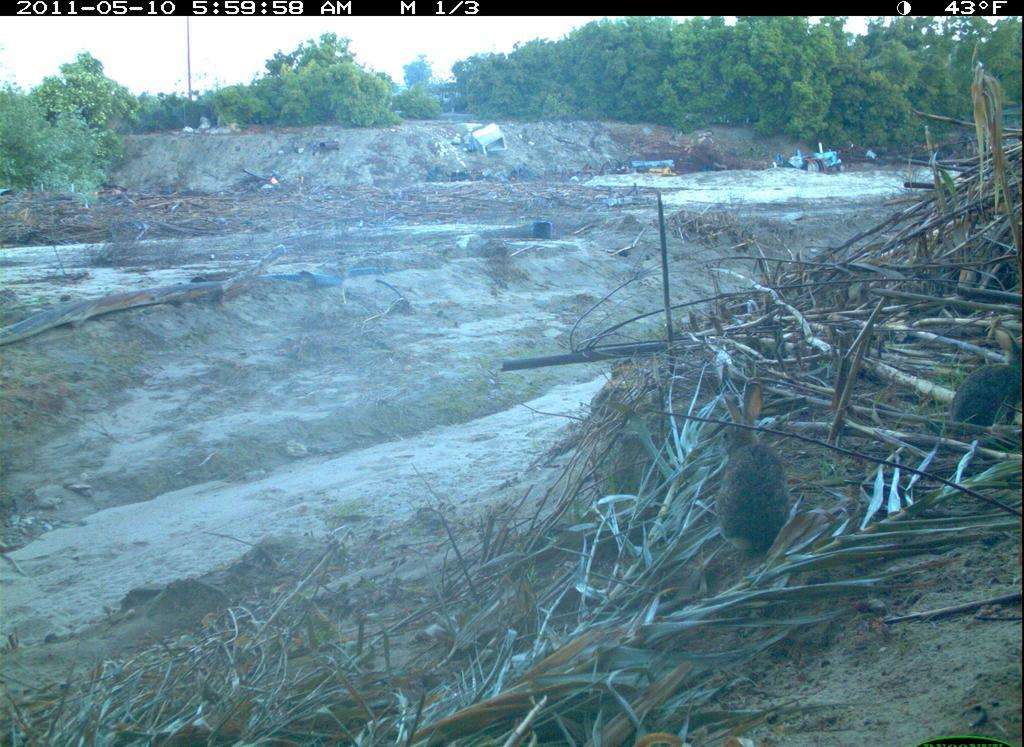rabbit: (702, 381, 798, 562), (944, 322, 1022, 425)
